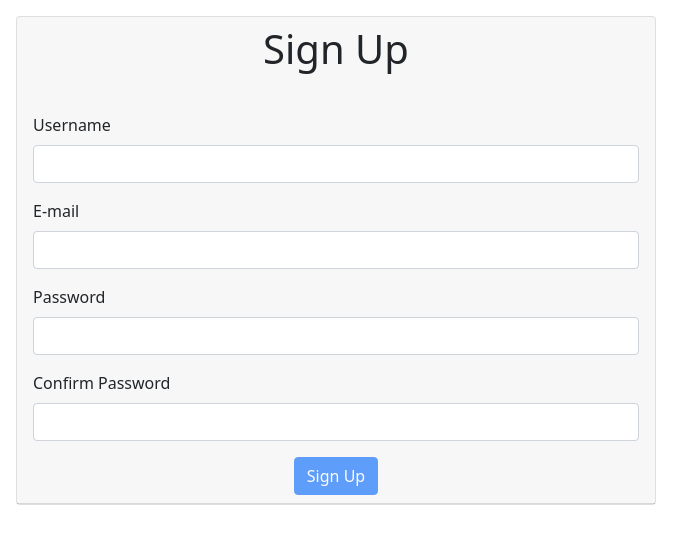
it: Sign Up Page › Interactions › displays the Username cannot be null message for the field username
Type "user1" into the field labelled "Username" at (336, 164), box 33,145 -> 639,183
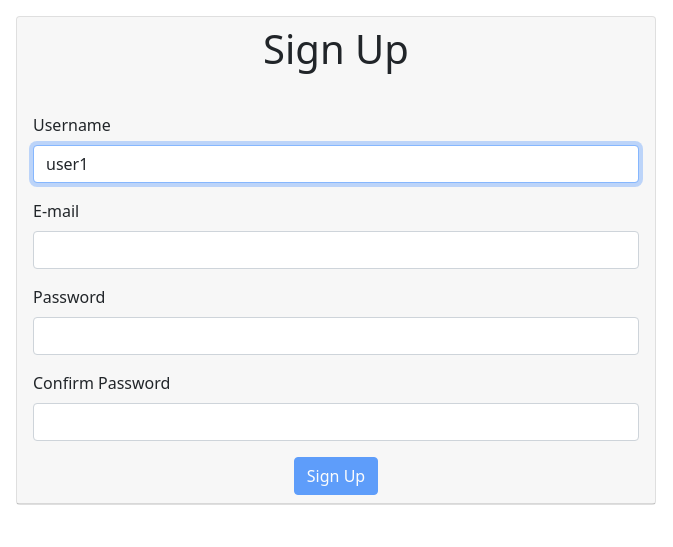
Type "user1@mail.com" into the field labelled "E-mail" at (336, 250), box 33,231 -> 639,269
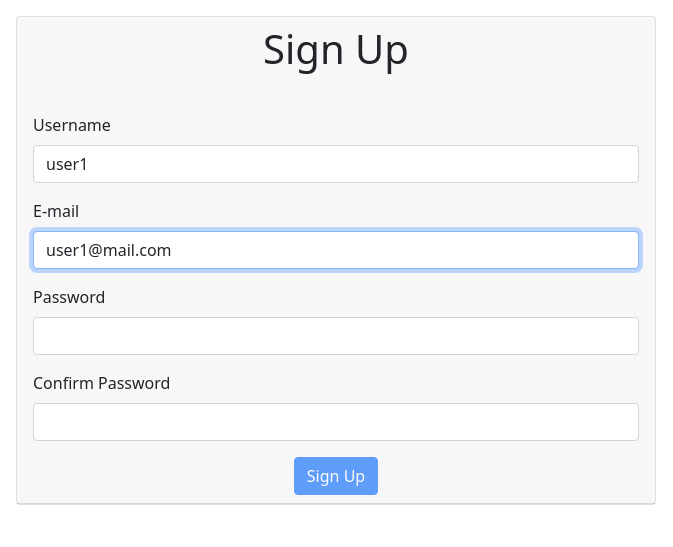
Type "P4ssword" into the password field labelled "Password" at (336, 336), box 33,317 -> 639,355
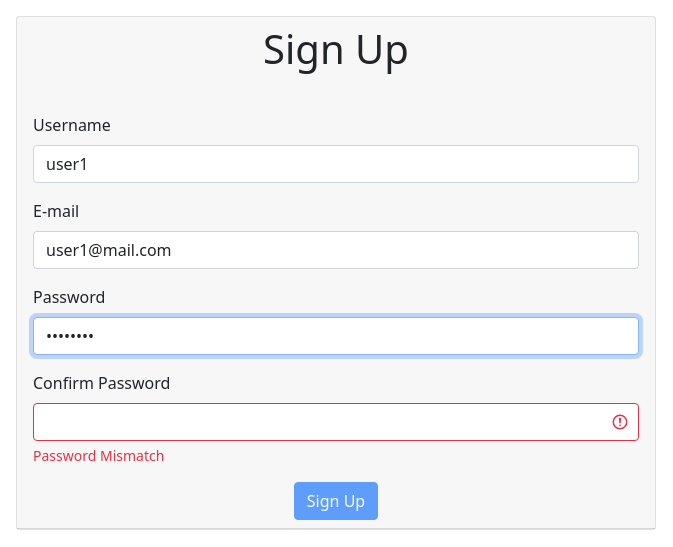
Type "P4ssword" into the password field labelled "Confirm Password" at (336, 422), box 33,403 -> 639,441
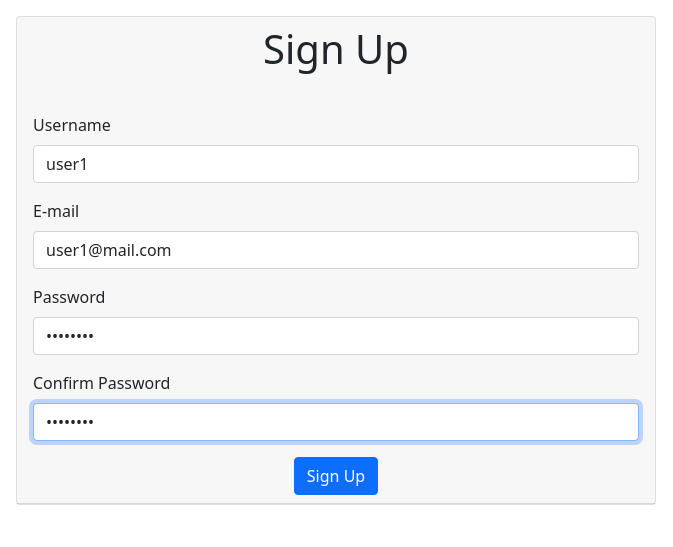
Click the button "Sign Up" at (336, 476), box 294,457 -> 378,495
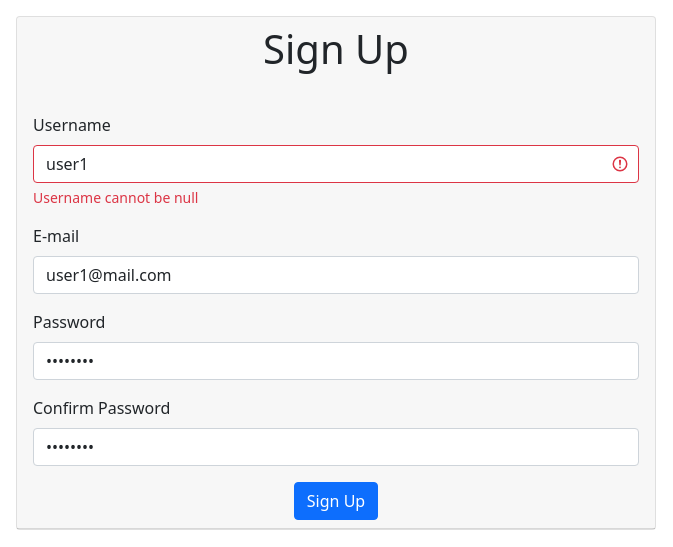
Now the text "Username cannot be null" is shown, box 33,188 -> 198,207
